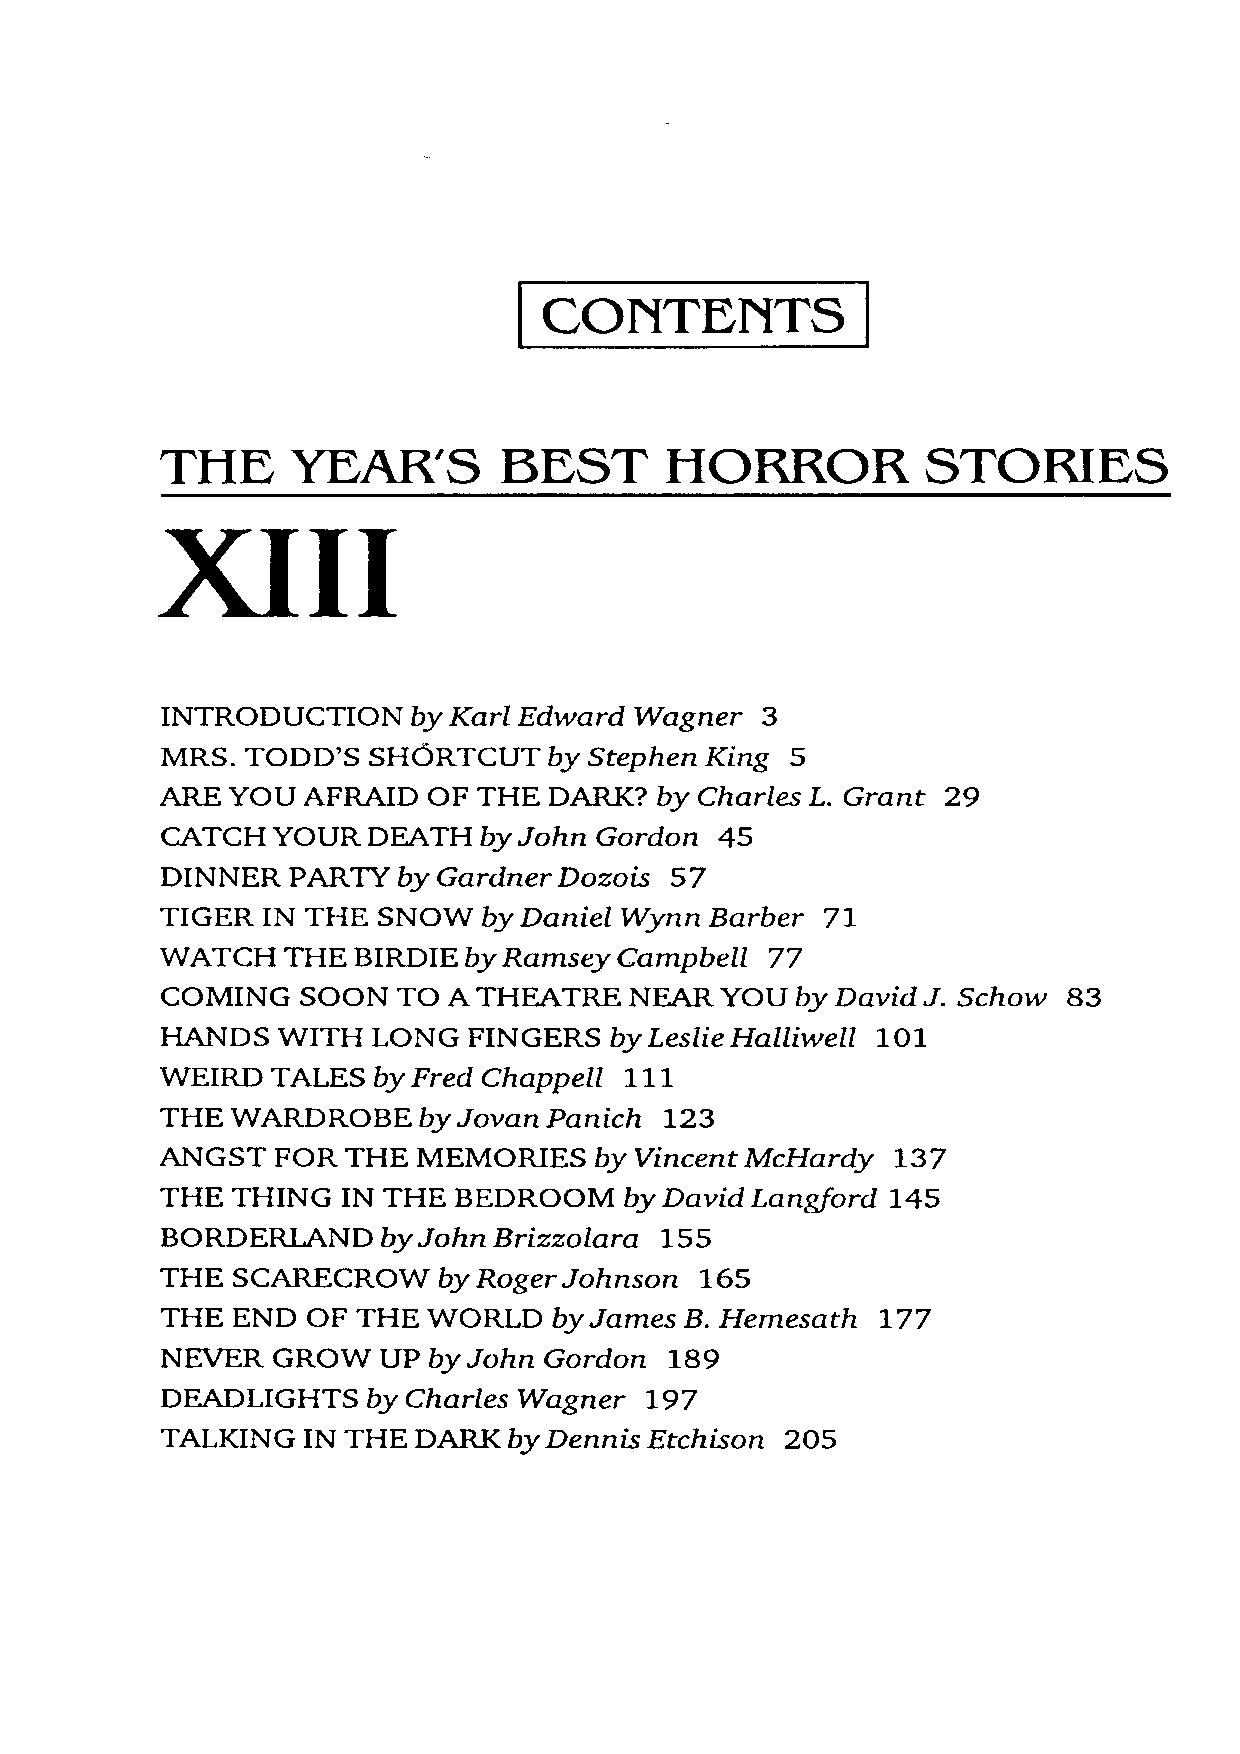TOC_chapter: (158, 984, 1049, 1011), (157, 781, 929, 811), (158, 1184, 878, 1215), (154, 1143, 874, 1172), (156, 1021, 856, 1049), (158, 1304, 858, 1333), (158, 1424, 768, 1453), (157, 745, 769, 773), (160, 701, 742, 730), (156, 942, 747, 970), (154, 1263, 682, 1294), (156, 905, 805, 929), (156, 1345, 654, 1374), (158, 1384, 627, 1414), (158, 862, 654, 890), (158, 1062, 607, 1092), (160, 823, 701, 848), (156, 1224, 640, 1251), (156, 1104, 643, 1130)
TOC_pagenumber: (875, 1304, 931, 1335), (643, 1384, 701, 1413), (884, 1181, 939, 1210), (623, 1062, 675, 1092), (892, 1142, 949, 1170), (667, 1343, 723, 1372), (874, 1023, 926, 1049), (782, 1425, 840, 1449), (663, 859, 709, 888), (660, 1107, 722, 1129), (659, 1225, 713, 1249), (698, 1266, 752, 1290), (1063, 981, 1104, 1011), (718, 823, 760, 851), (939, 782, 982, 809), (766, 942, 804, 970), (819, 905, 855, 930), (754, 701, 784, 729), (786, 741, 809, 768)
chapter: (534, 294, 847, 337)
title: (153, 437, 1181, 488)
